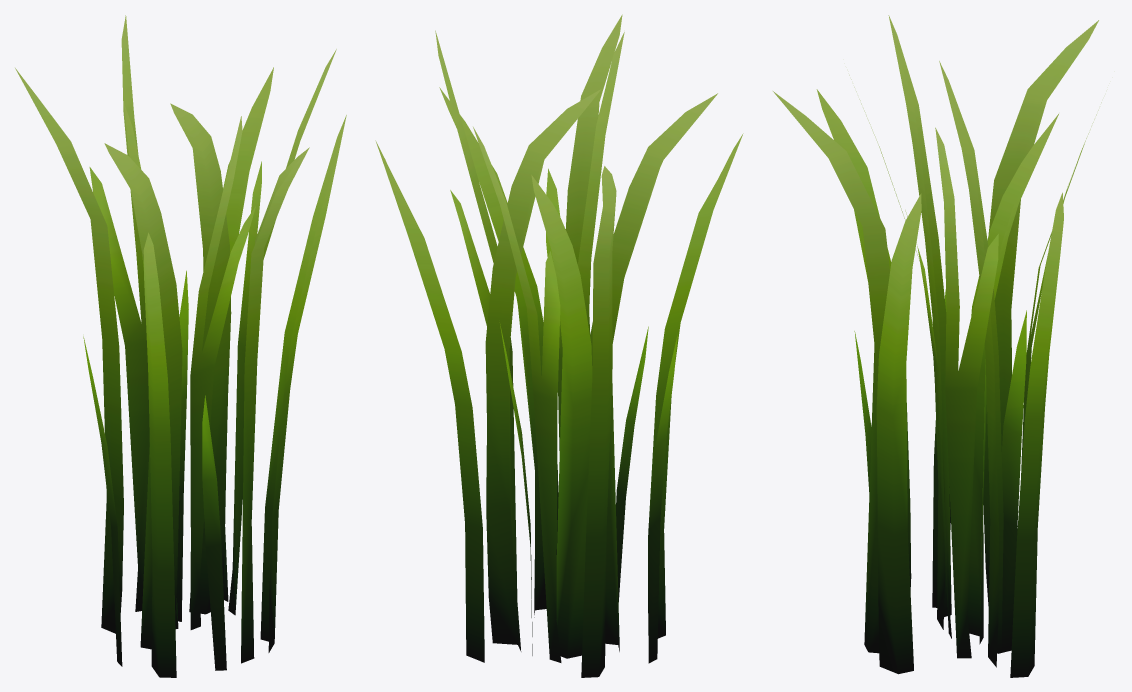
The model's file is grass_common_tall.glb.
3 renders of one model, left to right at view 1: azimuth 30°, elevation 25°; view 2: azimuth 150°, elevation 25°; view 3: azimuth 270°, elevation 25°, orthographic. The views are drawn at different scales.
Visible parts, largest first — view 1: Grass_Common_Tall; view 2: Grass_Common_Tall; view 3: Grass_Common_Tall.
Boxes of the visible parts, box(x1,y1,x2,y2) form: Grass_Common_Tall: box(15, 15, 346, 677); Grass_Common_Tall: box(375, 14, 743, 677); Grass_Common_Tall: box(773, 15, 1101, 677).
Bounding box in the file's own units: 0.8951 × 1.87 × 0.9932.
Materials: 1 (1 with a texture image).
